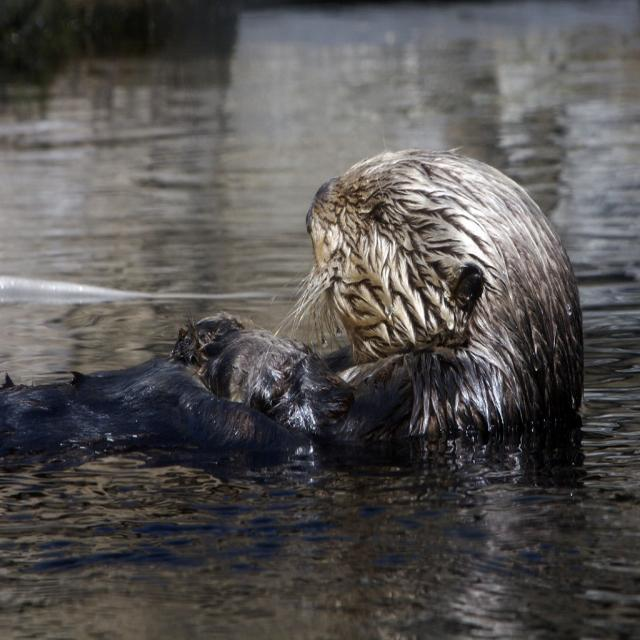otter: (1, 145, 584, 438)
